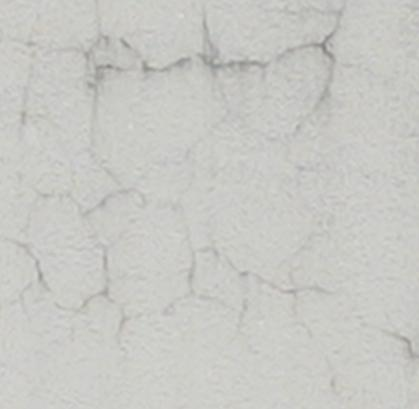fissura: (3, 6, 417, 387)
